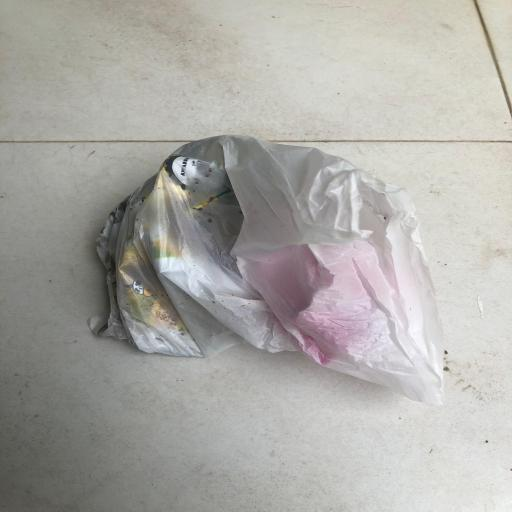waste: (74, 122, 468, 402)
